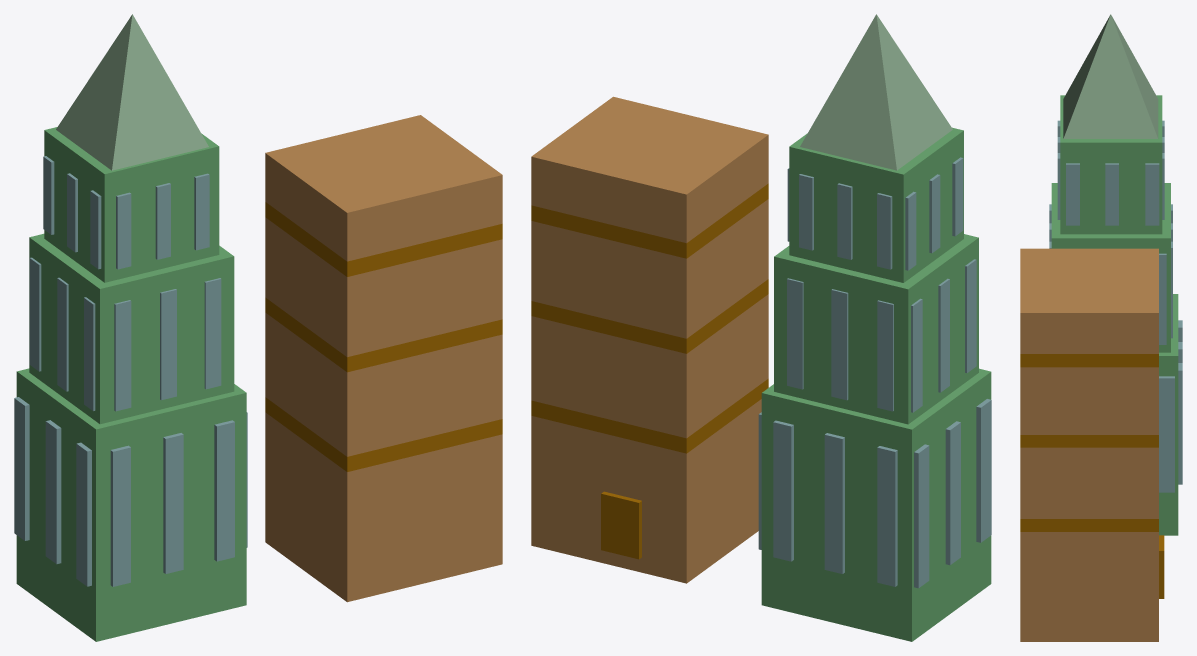
The model's file is Buildings2.fbx.
3 views of the same model, side by side, from view 1: azimuth 30°, elevation 25°; view 2: azimuth 150°, elevation 25°; view 3: azimuth 270°, elevation 25° (orthographic). The views are drawn at different scales.
Parts seen in each view (by area): view 1: Buildings2; view 2: Buildings2; view 3: Buildings2.
Boxes of the visible parts, x1,y1,x2,y2 form: Buildings2: (14,14,502,641); Buildings2: (531,14,991,641); Buildings2: (1020,14,1182,641).
Bounding box in the file's own units: 41.1 × 58.21 × 17.19.
